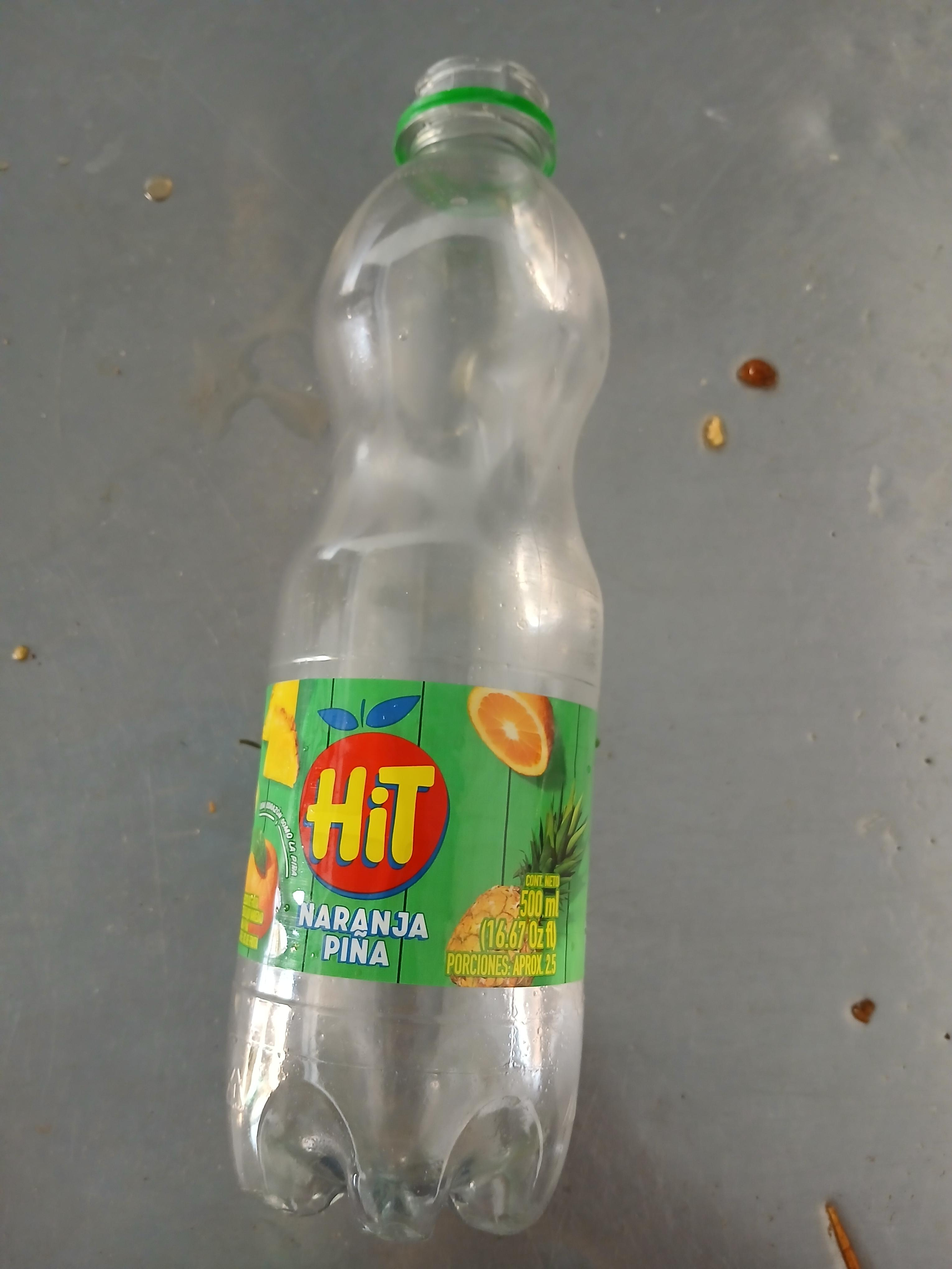Plastico: (228, 55, 611, 1239)
